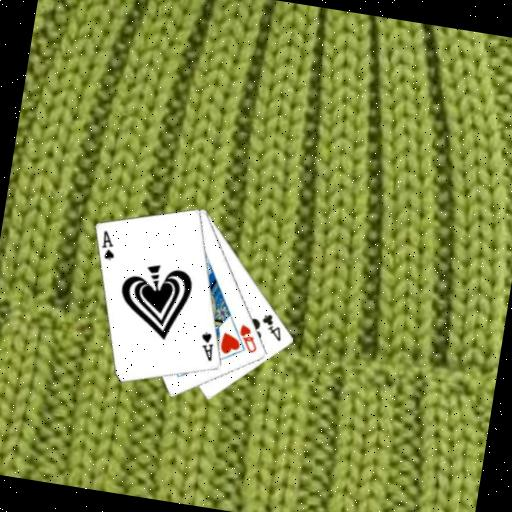4C: (256, 309, 286, 343)
AS: (96, 226, 120, 262), (195, 328, 218, 363)
QH: (233, 320, 262, 355)
